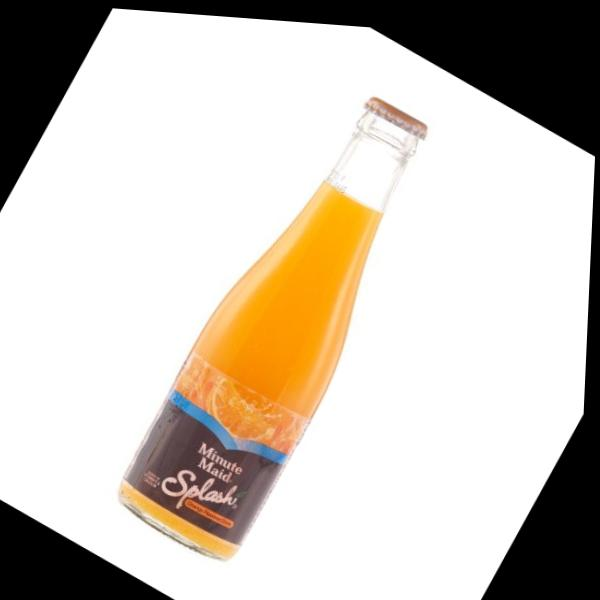glass: (119, 97, 426, 558)
